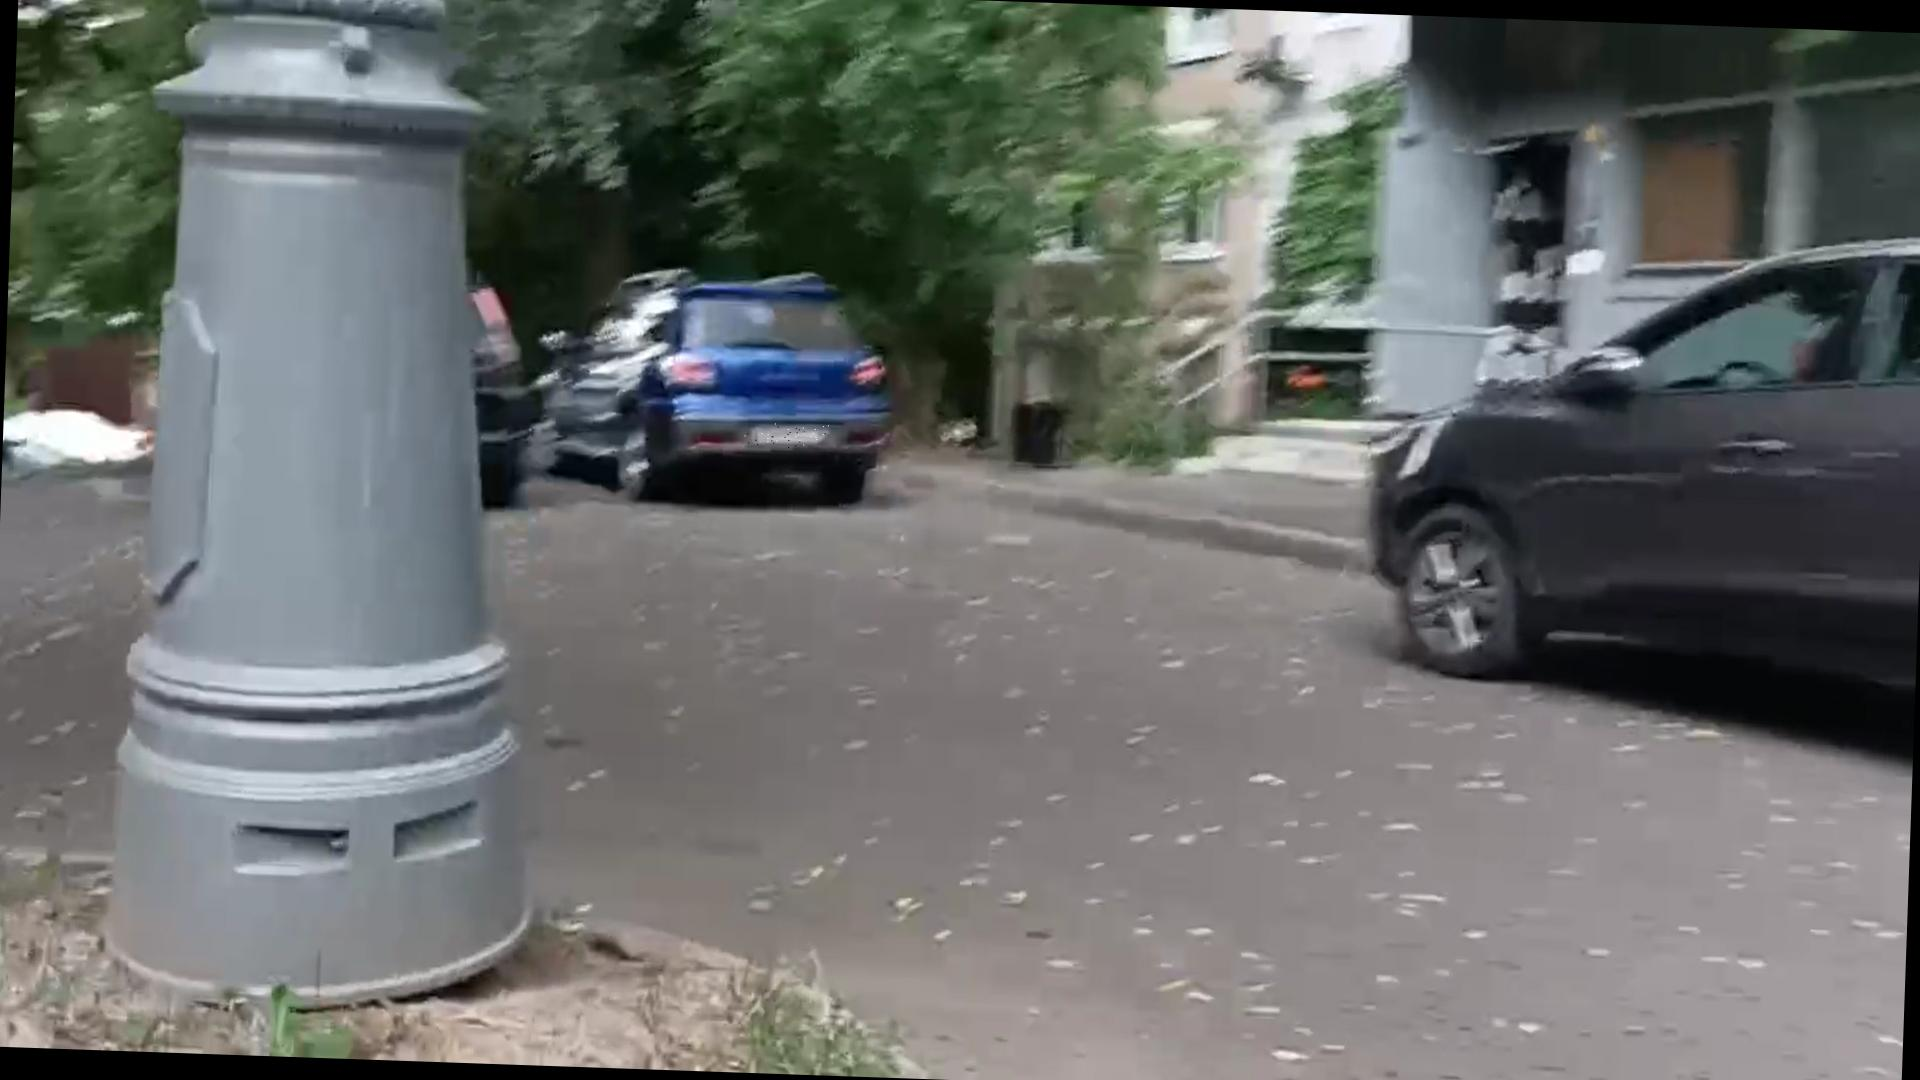plate: (745, 424, 830, 452)
